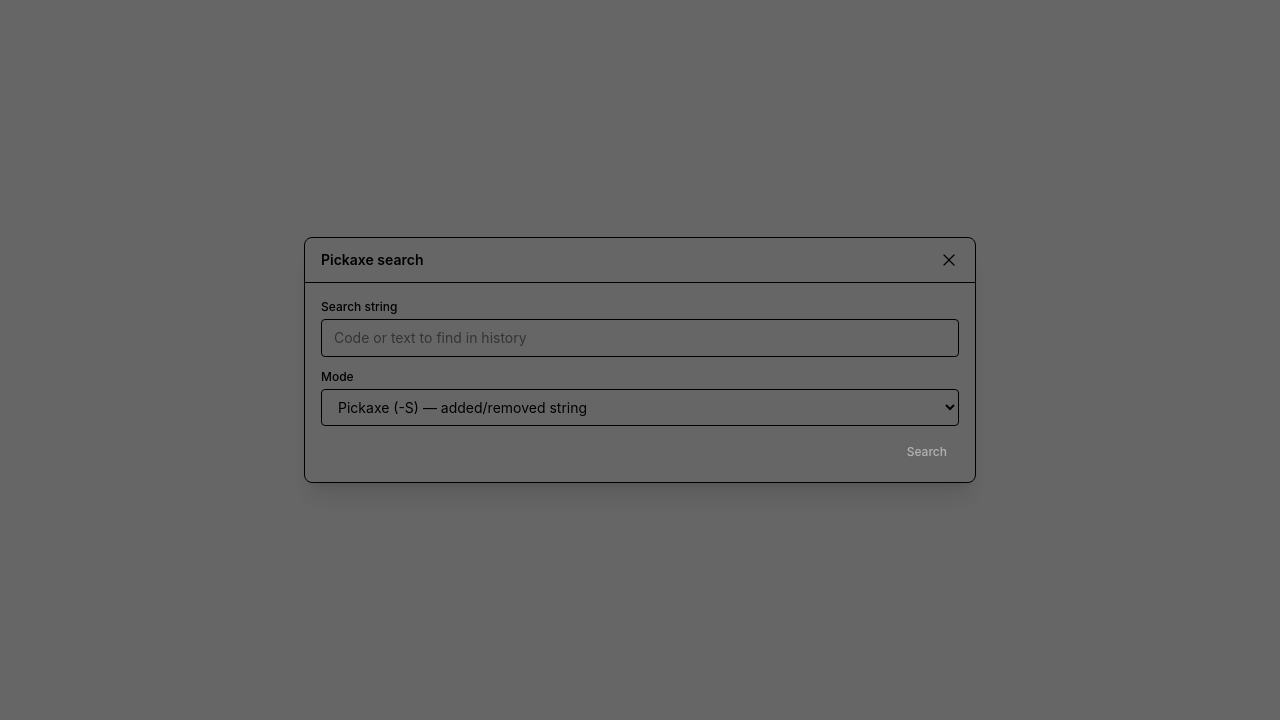
it: PickaxeSearchModal › shows error state when search fails
Type "bad" into the field at (640, 338), box [321, 319, 959, 357]
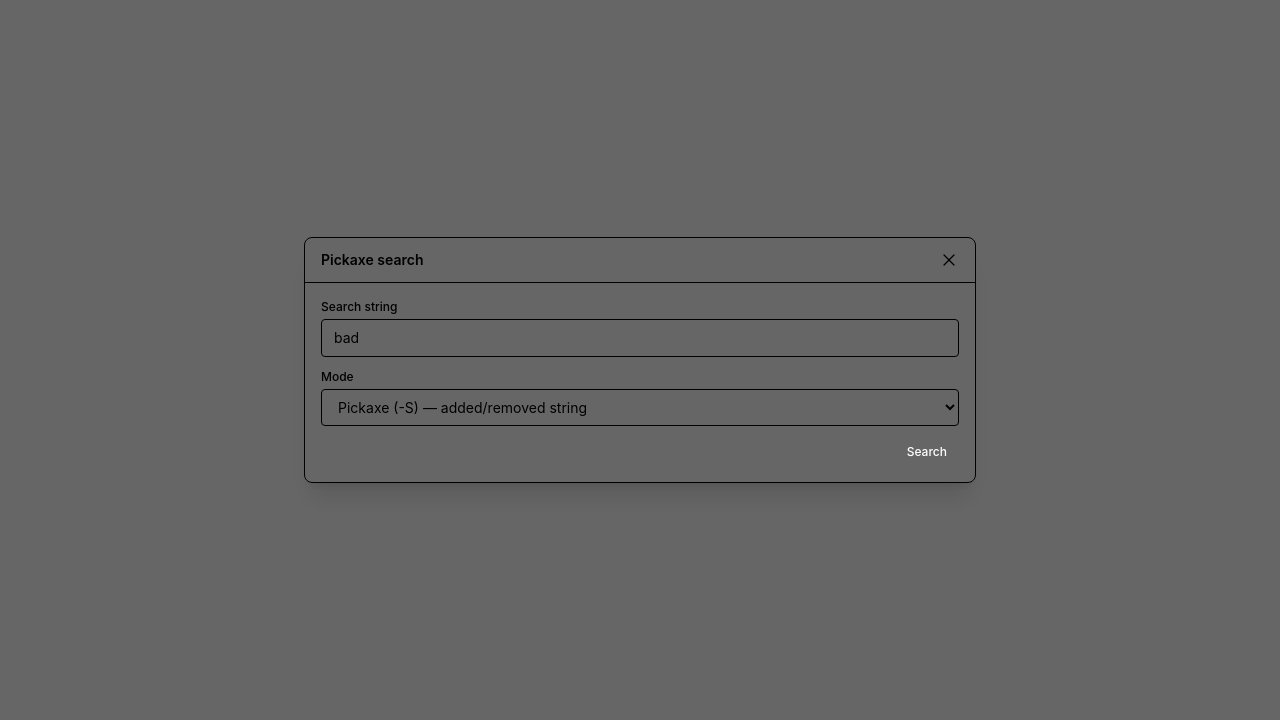
Click the button "Search" at (927, 452), box [895, 438, 959, 466]
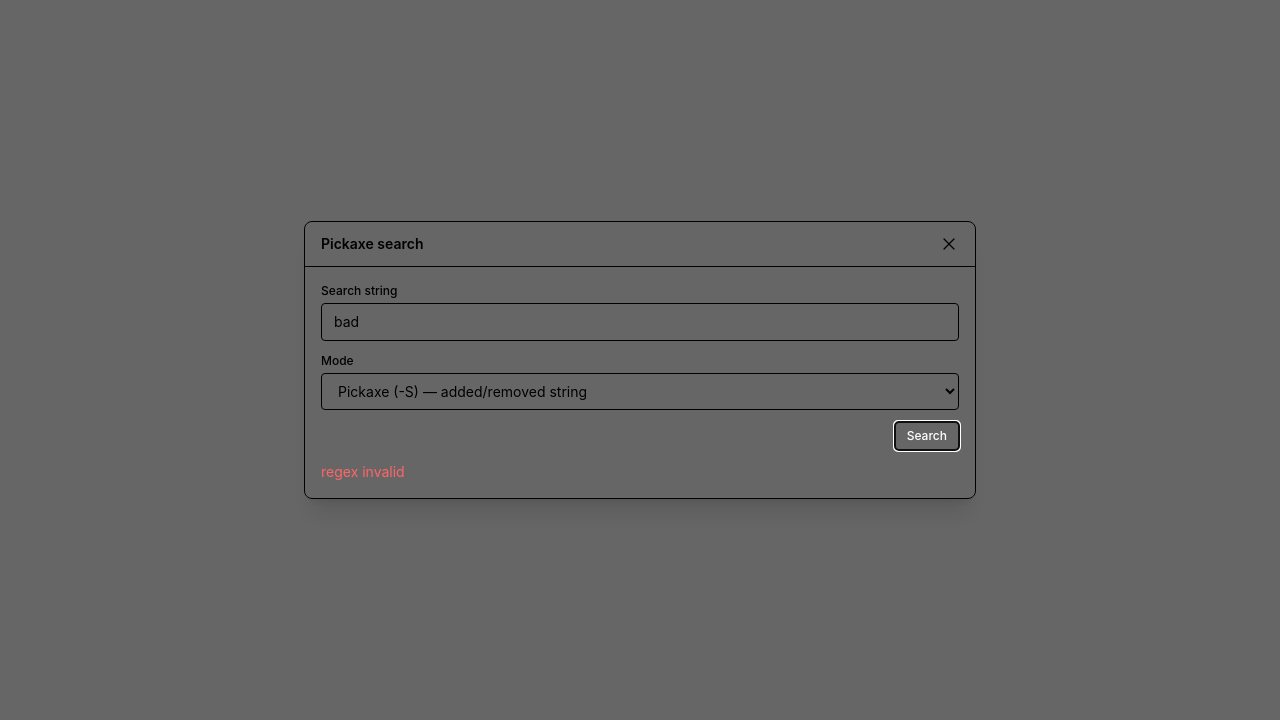
Check: the text "regex invalid" is shown, box [321, 463, 405, 480]
